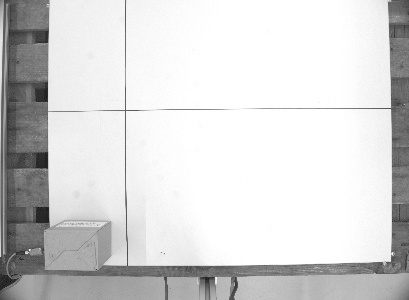b5: (42, 218, 114, 273)
